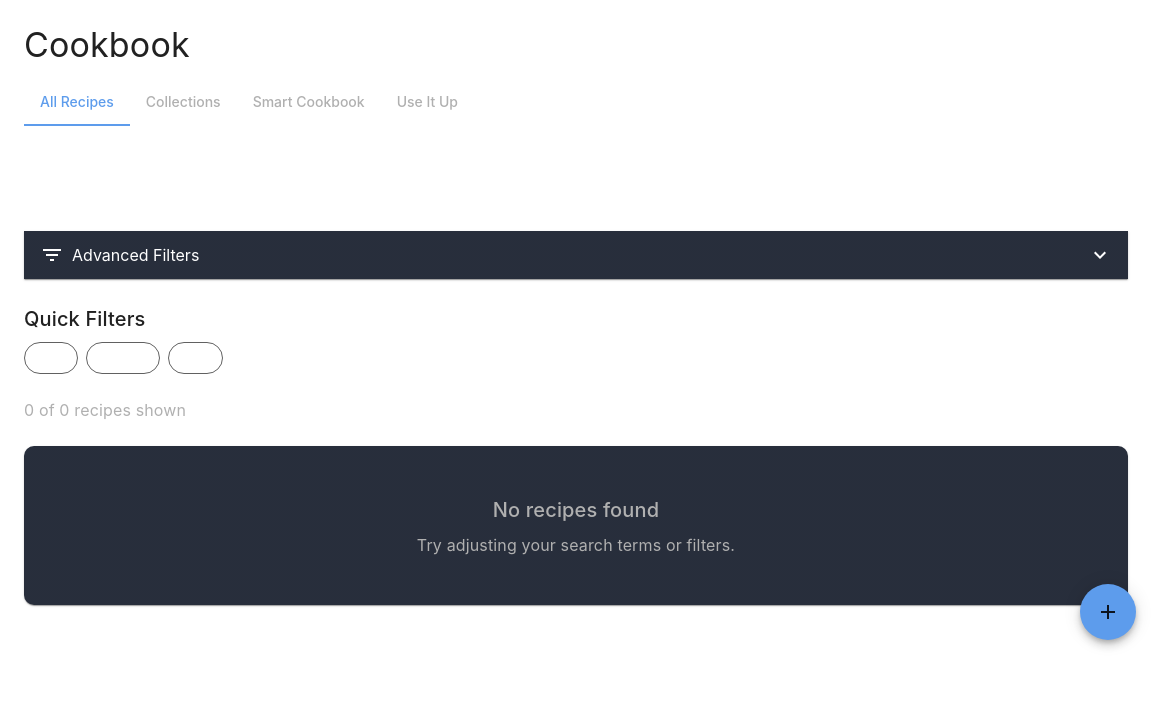
Test case: Cookbook page › refreshes Smart Cookbook results when returning to the tab after data changes
Click the tab with test id "cookbook-tab-smart" at [309, 102], box [237,78,381,126]
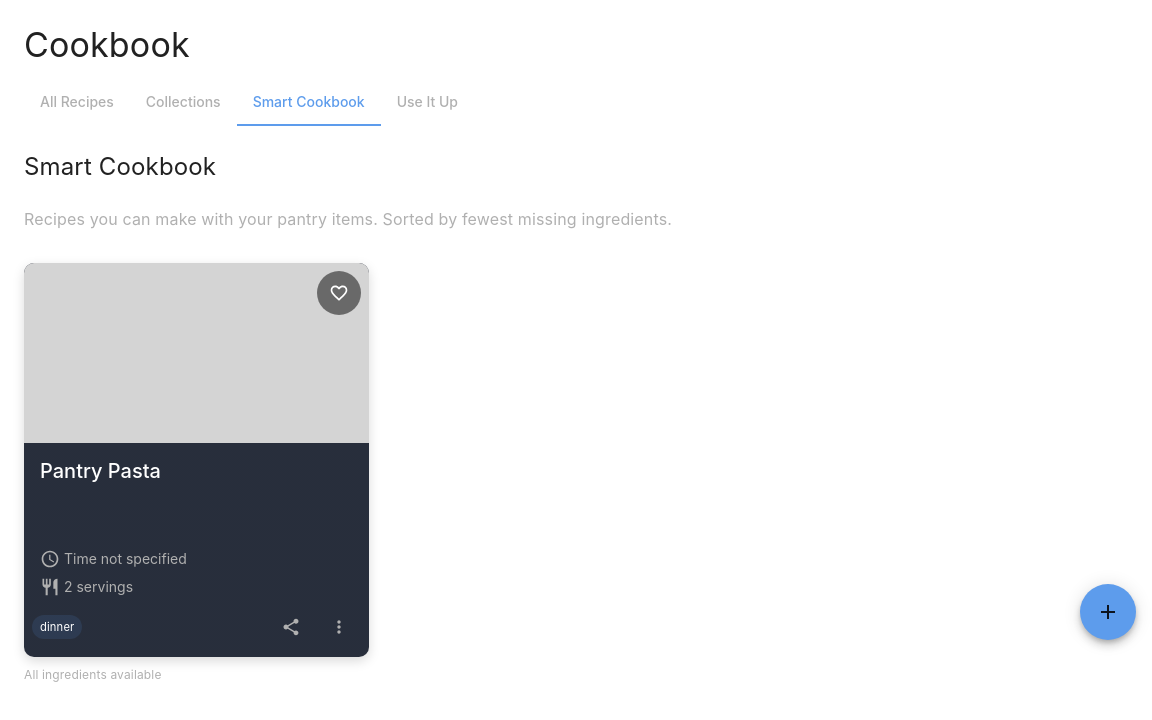
Result: the text "Pantry Pasta" is shown at [40,459,161,483]
Click the tab with test id "cookbook-tab-all-recipes" at [77, 102], box [24,78,130,126]
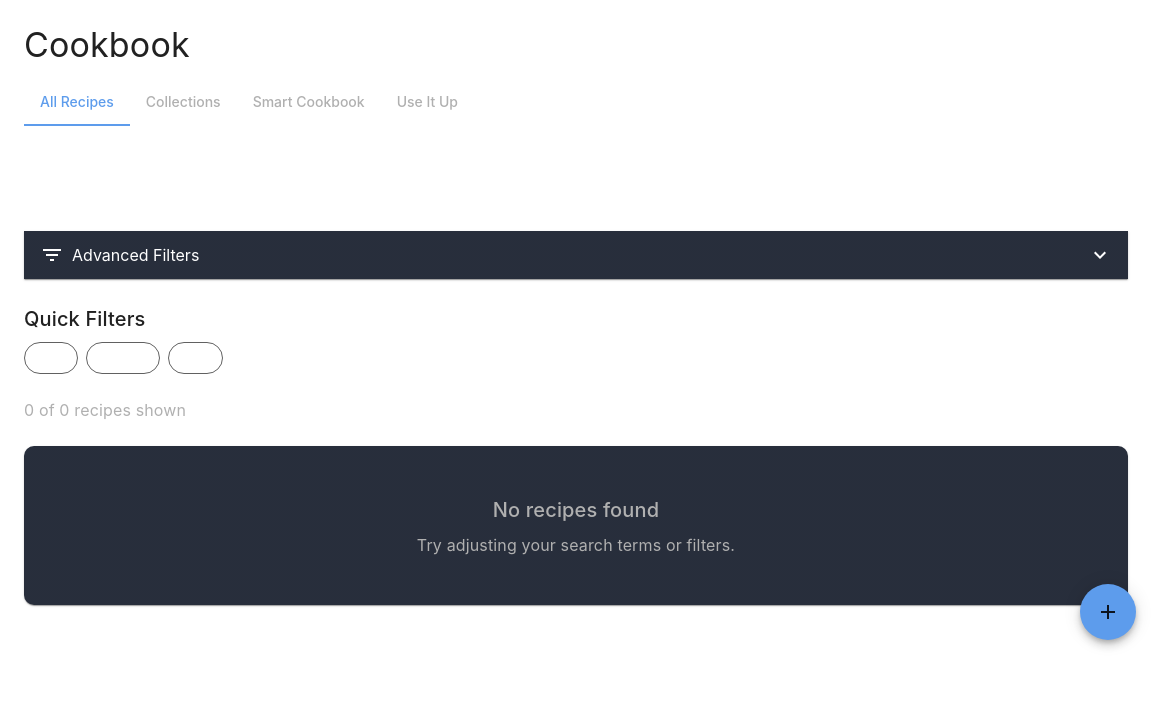
Click the tab with test id "cookbook-tab-smart" at [309, 102], box [237,78,381,126]
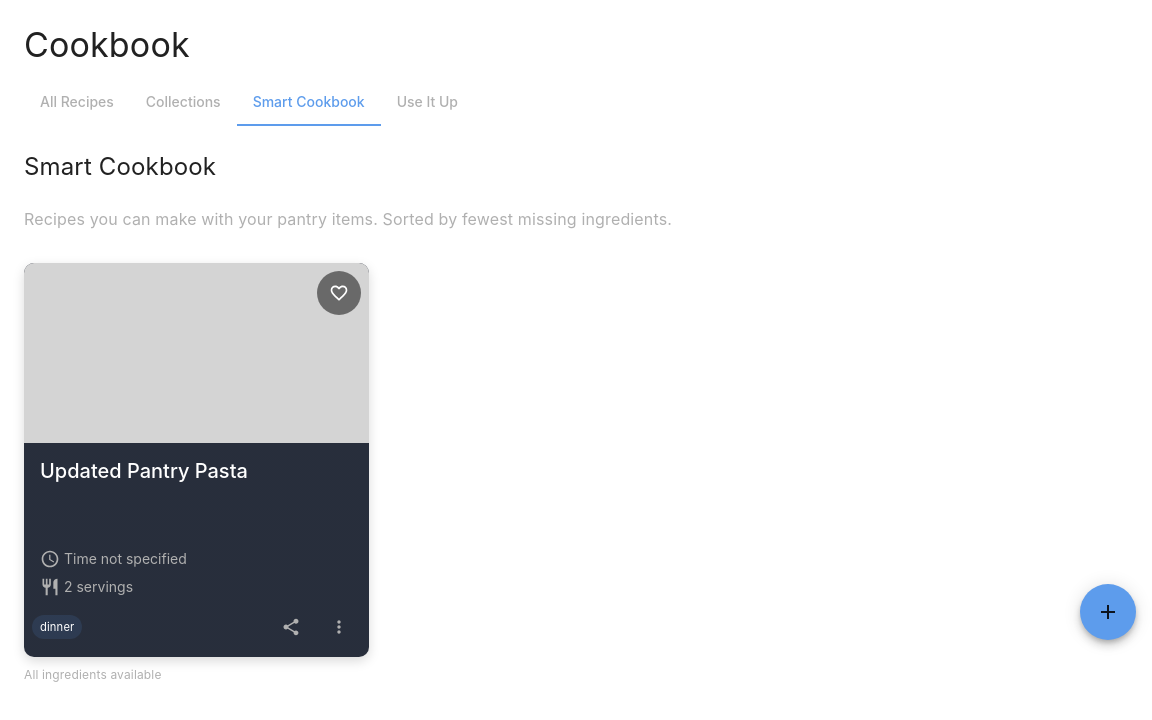
Result: the text "Updated Pantry Pasta" is shown at [40,459,248,483]
